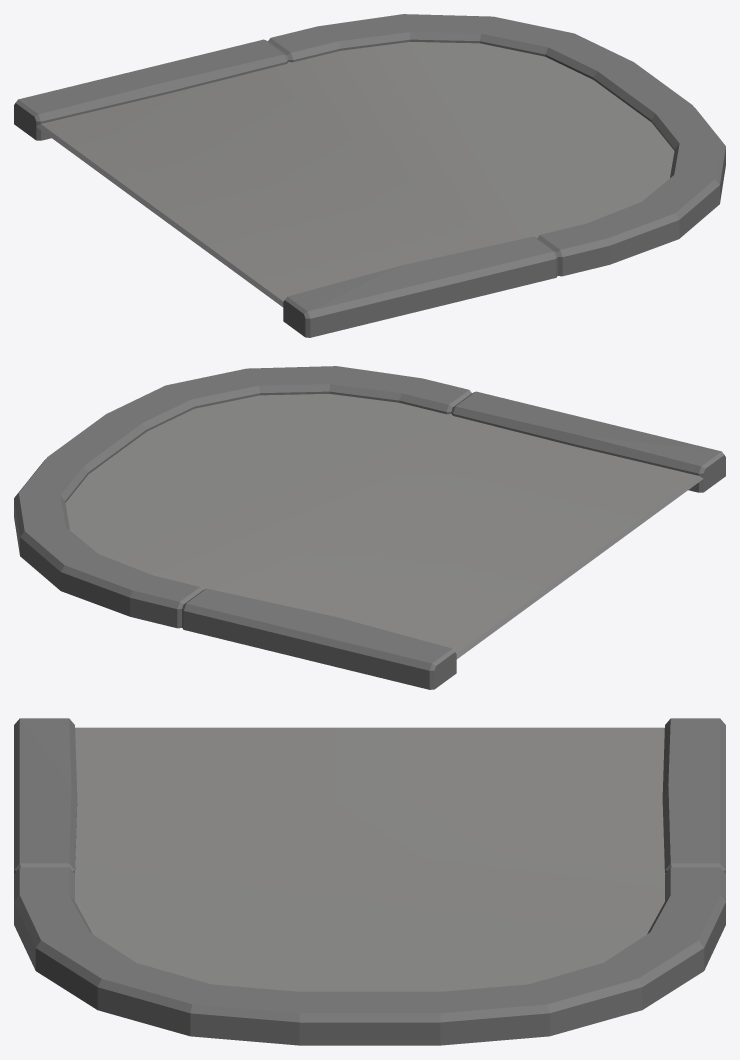
The model's file is SM_Envr_Road_Sidewalk_Median_02.fbx.
3 views of the same model, one above another, from view 1: azimuth 30°, elevation 25°; view 2: azimuth 150°, elevation 25°; view 3: azimuth 270°, elevation 25° (orthographic). The views are drawn at different scales.
Visible parts, largest first — view 1: SM_Envr_Road_Sidewalk_Median_02; view 2: SM_Envr_Road_Sidewalk_Median_02; view 3: SM_Envr_Road_Sidewalk_Median_02.
Boxes of the visible parts, x1,y1,x2,y2 form: SM_Envr_Road_Sidewalk_Median_02: [14, 14, 725, 337]; SM_Envr_Road_Sidewalk_Median_02: [14, 366, 725, 689]; SM_Envr_Road_Sidewalk_Median_02: [14, 718, 725, 1045].
Size of the model in its own units: 503 by 25.53 by 505.
